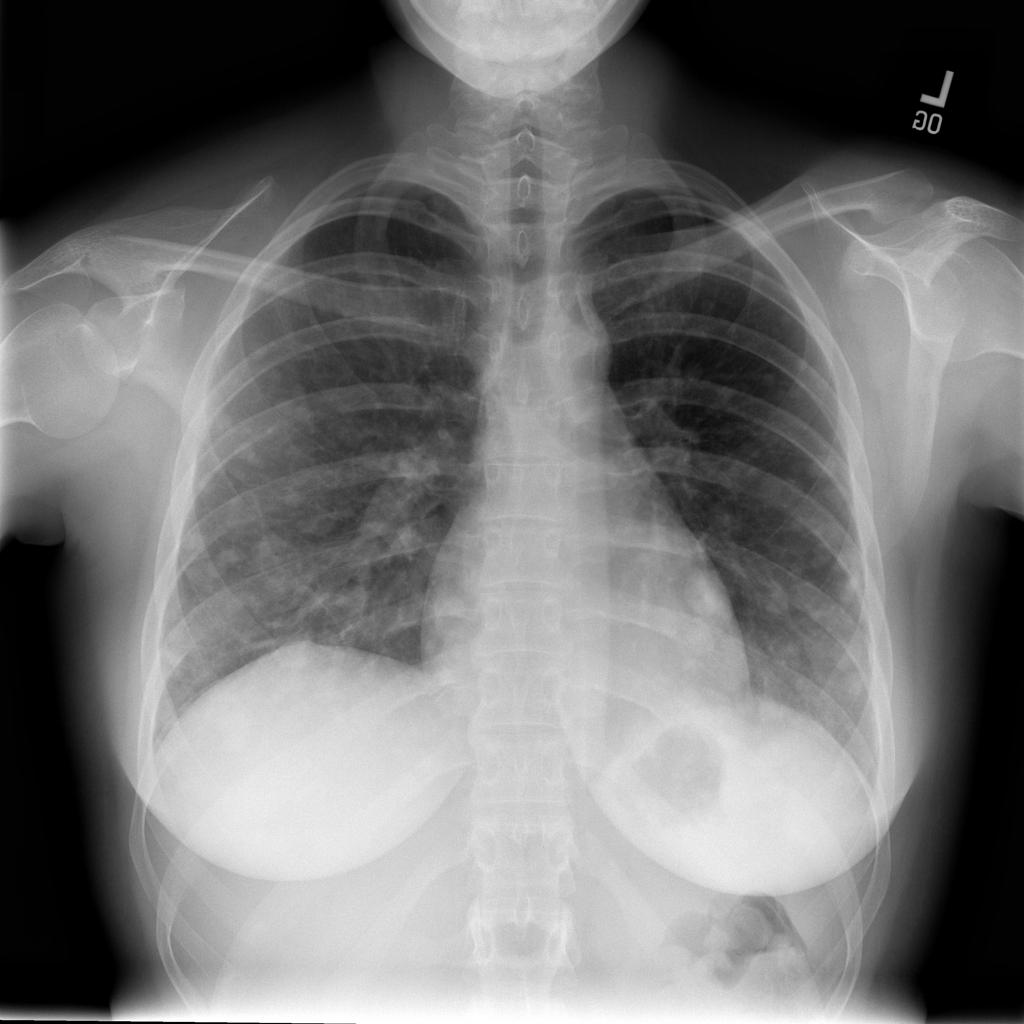nodule: (687, 627, 765, 701), (671, 559, 741, 634), (820, 638, 886, 712), (825, 557, 873, 612), (801, 442, 851, 492), (746, 352, 794, 403), (749, 573, 797, 623)
